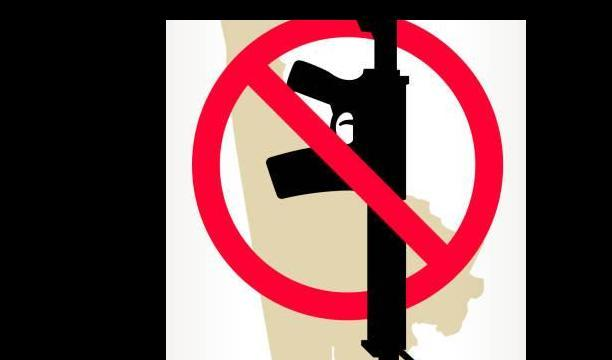larga: (267, 19, 414, 360)
